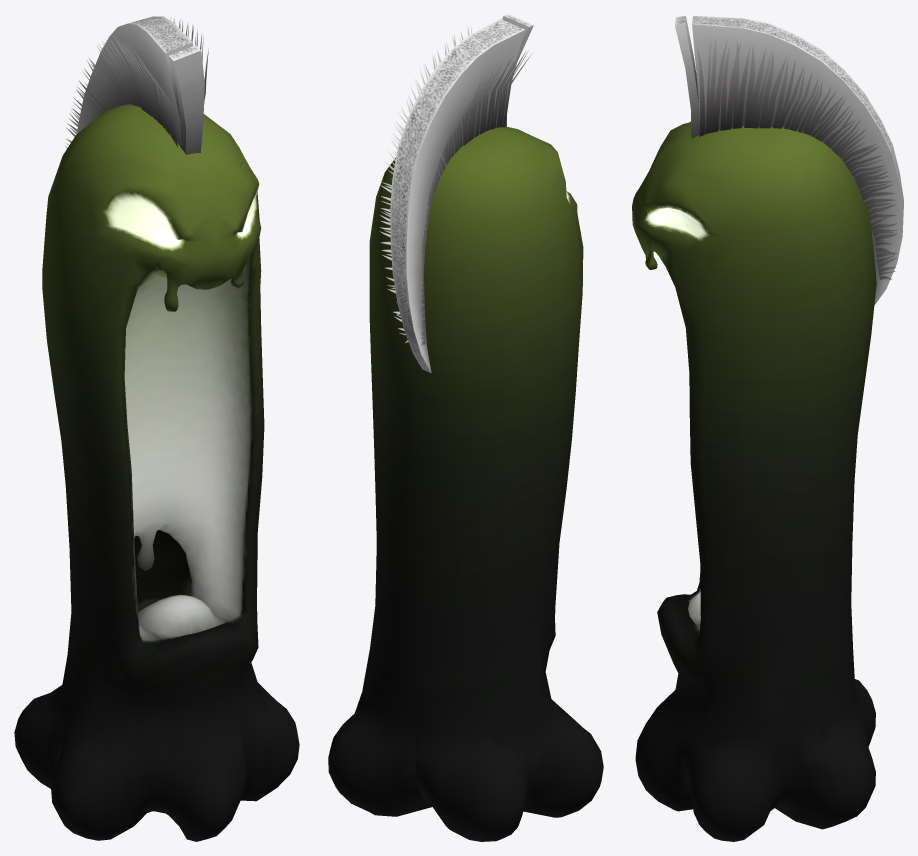
3 views of the same model, side by side, from view 1: azimuth 30°, elevation 25°; view 2: azimuth 150°, elevation 25°; view 3: azimuth 270°, elevation 25° (orthographic). The views are drawn at different scales.
Visible parts, largest first — view 1: BodyA_low__M_Body, HairA_low__M_Hair; view 2: BodyA_low__M_Body, HairA_low__M_Hair; view 3: BodyA_low__M_Body, HairA_low__M_Hair.
Part boxes in pixels (x1=…): BodyA_low__M_Body: x1=14, y1=104, x2=299, y2=841; HairA_low__M_Hair: x1=65, y1=16, x2=208, y2=154; BodyA_low__M_Body: x1=328, y1=127, x2=603, y2=841; HairA_low__M_Hair: x1=380, y1=14, x2=533, y2=373; BodyA_low__M_Body: x1=632, y1=121, x2=876, y2=841; HairA_low__M_Hair: x1=675, y1=15, x2=903, y2=305.
Bounding box in the file's own units: 4.7 × 14.9 × 4.69.
2 materials, 2 textured.
